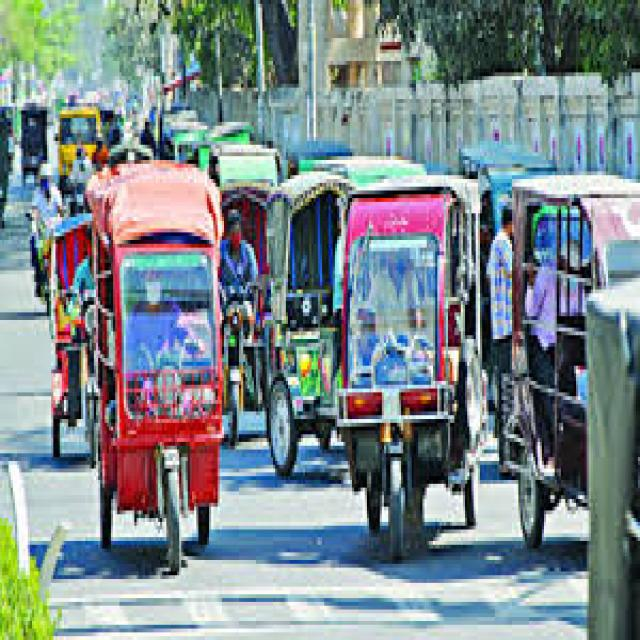person: (486, 210, 510, 434), (30, 164, 60, 309), (222, 210, 256, 301)
three wheeler: (337, 175, 480, 560), (87, 160, 218, 575), (501, 175, 638, 549), (265, 171, 348, 476), (209, 145, 279, 442), (49, 213, 92, 457), (21, 107, 45, 183)
